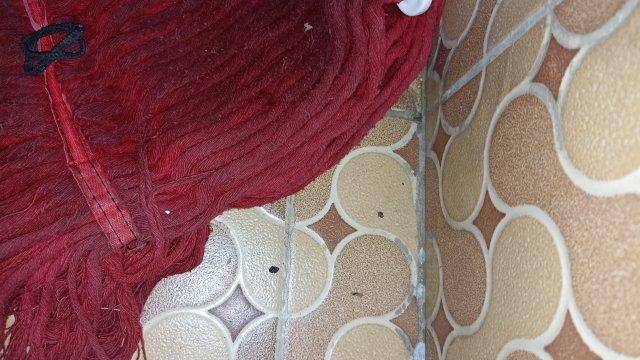karet: (20, 23, 86, 75)
